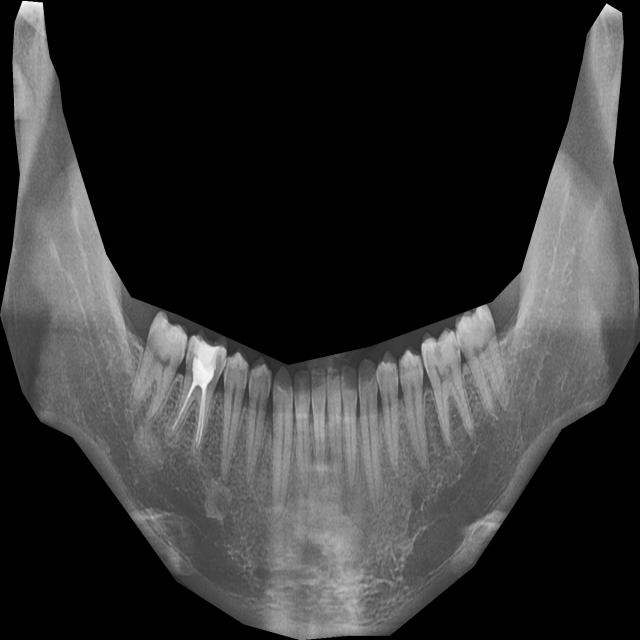mandibula: (0, 0, 640, 640)
